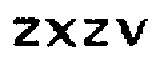v: (114, 15, 147, 49)
x: (40, 15, 76, 50)
z: (10, 13, 42, 50), (80, 15, 111, 49)
